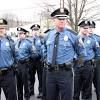uniform: (44, 28, 74, 93), (76, 34, 96, 91), (1, 36, 18, 96), (17, 39, 33, 93)
